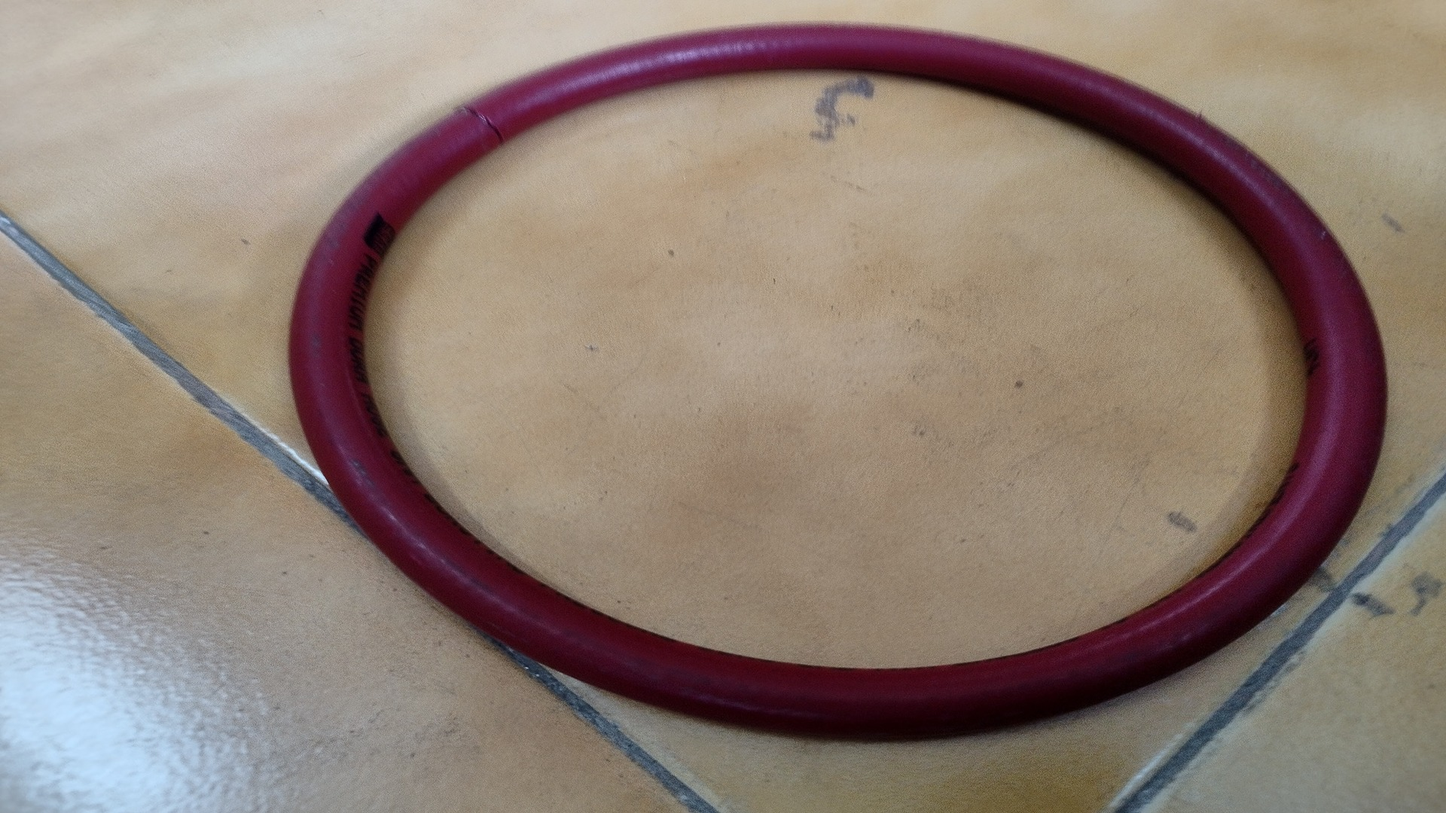Red ring: (285, 29, 1380, 723)
